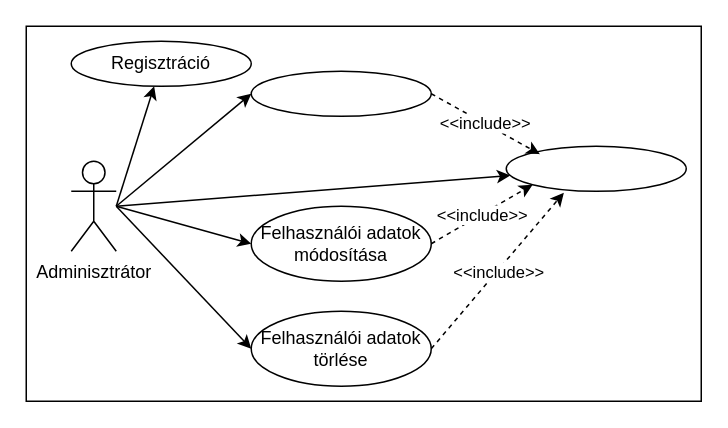
This 728x428 diagram has some shape labels left out. The centre of each missing label's shape, as x and y in pixels:
"Bejelentkezés" belongs at point (595, 168).
"CAFF fájlok törlése" belongs at point (340, 93).
